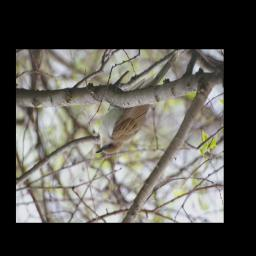Cuckoo: (95, 49, 181, 154)
